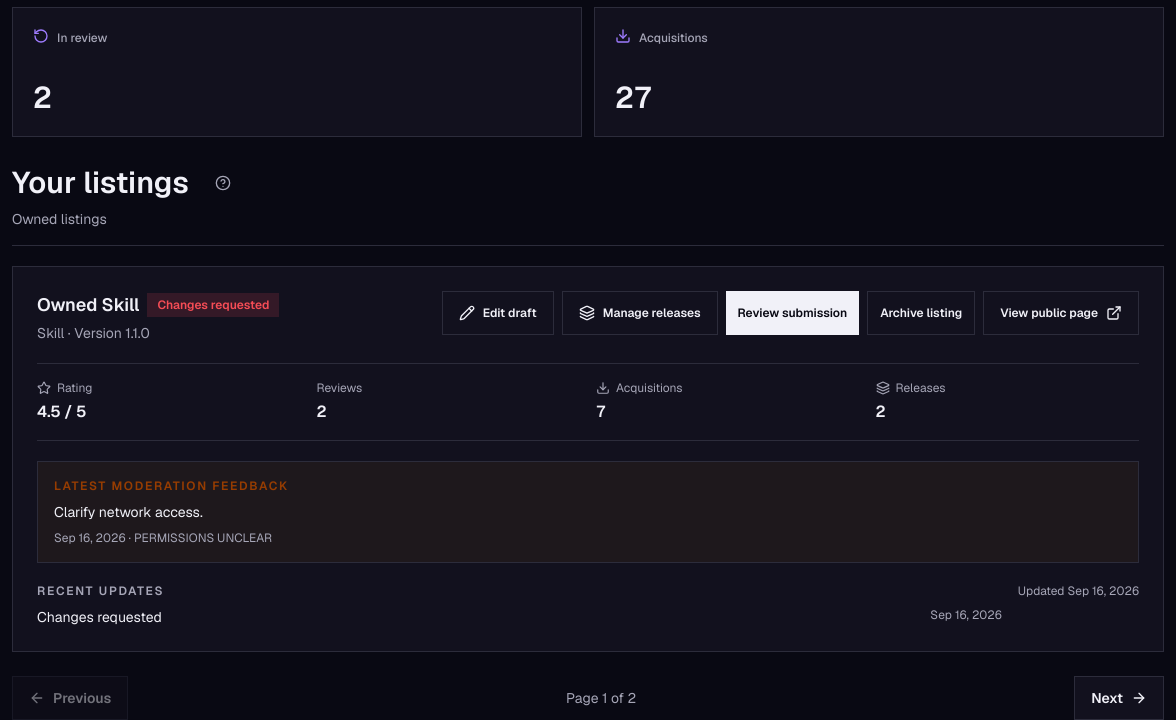
Scenario: CreatorDashboard › loads the next bounded listing page
The image size is (1176, 720).
(page scrolled)
Check: the heading "Owned Skill" is shown, box [37,291,139,319]
Click the button "Next" at coordinates (1119, 698), box [1074,676,1164,719]
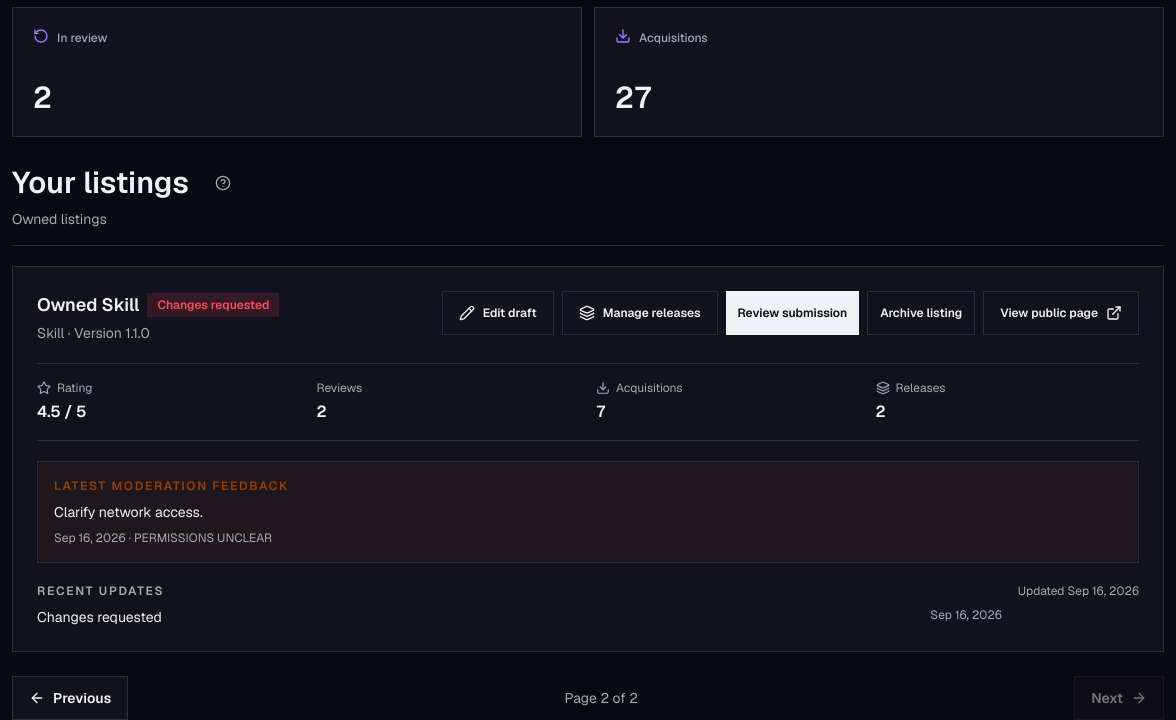
Check: the text "Page 2 of 2" is shown, box [564,688,638,708]
